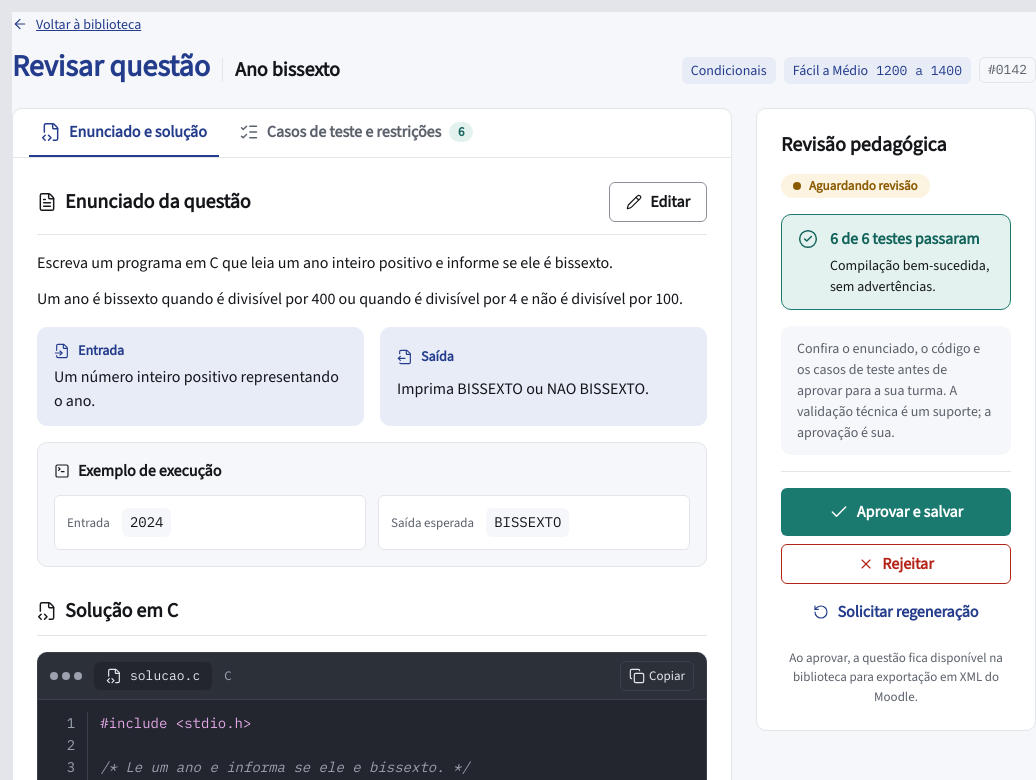
ReviewView › aprova a questão e atualiza o estado
Check: the text "Aguardando revisão" is shown, box [781,174,930,198]
Click the button "Aprovar e salvar" at (896, 512), box [781,488,1011,536]
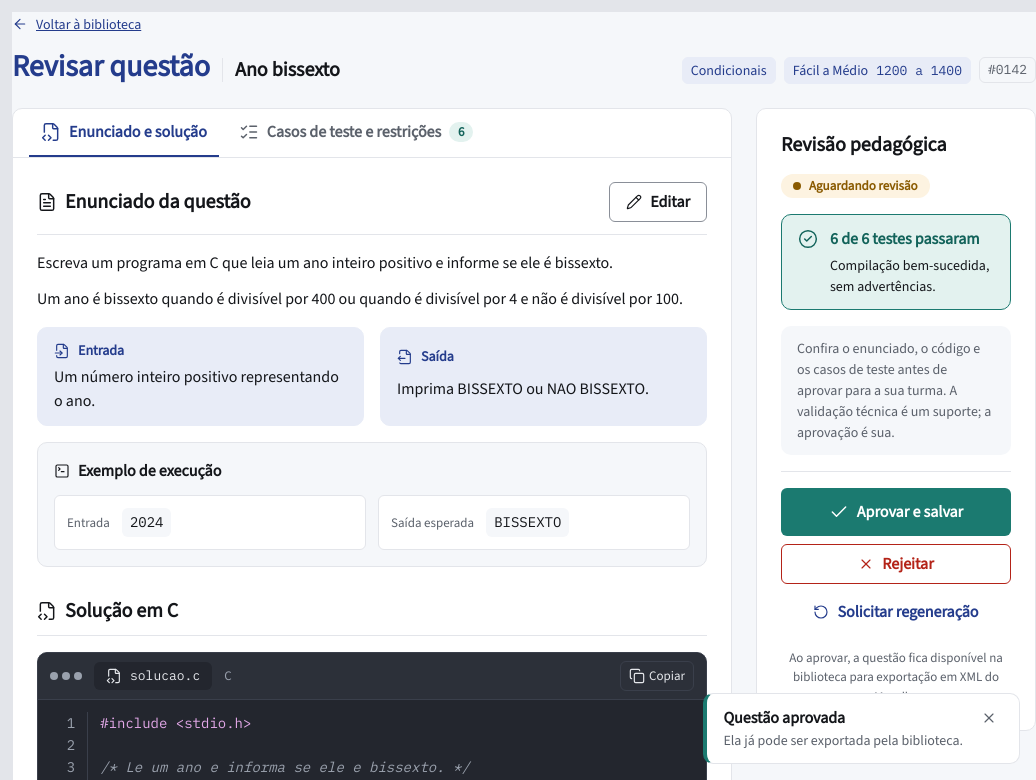
Check: the text "Questão aprovada" is shown, box [723,707,845,728]
